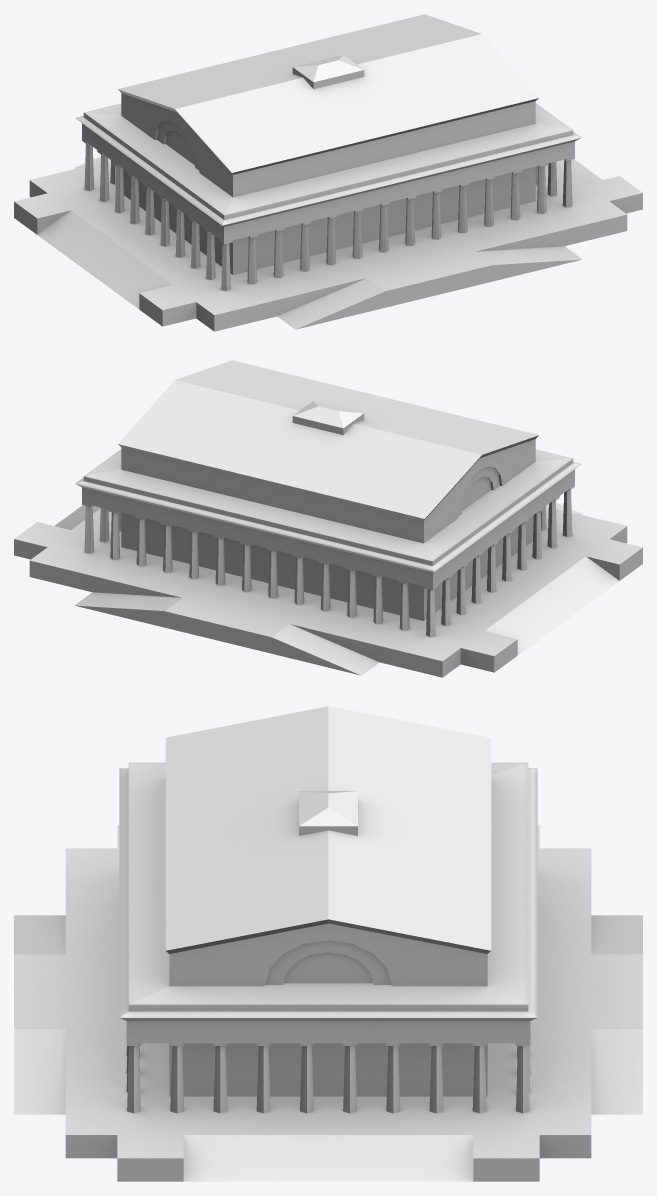
The model's file is warehouse.dae.
The picture shows the model from 3 angles, top to bottom: view 1: azimuth 30°, elevation 25°; view 2: azimuth 150°, elevation 25°; view 3: azimuth 270°, elevation 25°; orthographic projection. The views are drawn at different scales.
Visible parts, largest first — view 1: Warehouse; view 2: Warehouse; view 3: Warehouse.
Boxes of the visible parts, <box> form: Warehouse: <box>14,14,642,331</box>; Warehouse: <box>14,360,642,677</box>; Warehouse: <box>14,706,642,1181</box>.
Bounding box in the file's own units: 0.1633 × 0.1302 × 0.049.
1 material, 1 textured.
